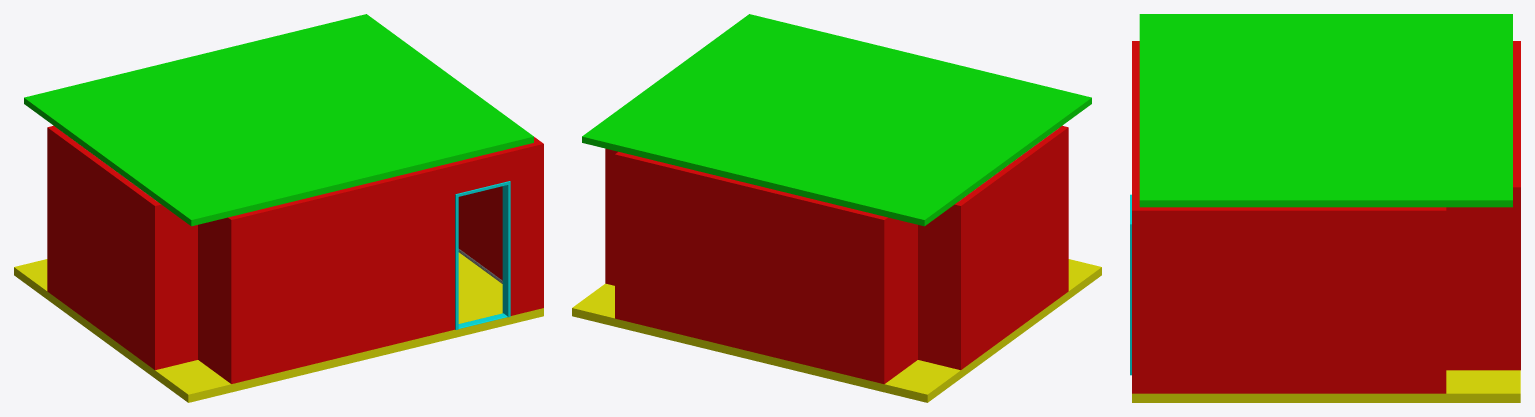
The model's file is ExpRoom_Grp.fbx.
3 views of the same model, side by side, from view 1: azimuth 30°, elevation 25°; view 2: azimuth 150°, elevation 25°; view 3: azimuth 270°, elevation 25° (orthographic). The views are drawn at different scales.
Parts seen in each view (by area): view 1: Walls_1, Ceiling_1, Floor_1, DoorFrame_1; view 2: Walls_1, Ceiling_1, Floor_1; view 3: Walls_1, Ceiling_1, Floor_1, DoorFrame_1.
Part boxes in pixels (bbox=[...]): Walls_1: bbox=[47, 125, 543, 383]; Ceiling_1: bbox=[24, 14, 533, 226]; Floor_1: bbox=[14, 252, 543, 402]; DoorFrame_1: bbox=[455, 181, 510, 329]; Walls_1: bbox=[605, 125, 1068, 384]; Ceiling_1: bbox=[582, 14, 1091, 226]; Floor_1: bbox=[572, 259, 1101, 402]; Walls_1: bbox=[1132, 41, 1520, 393]; Ceiling_1: bbox=[1139, 14, 1512, 207]; Floor_1: bbox=[1132, 370, 1520, 402]; DoorFrame_1: bbox=[1130, 194, 1131, 375].
Size of the model in its own units: 567 by 272 by 484.
